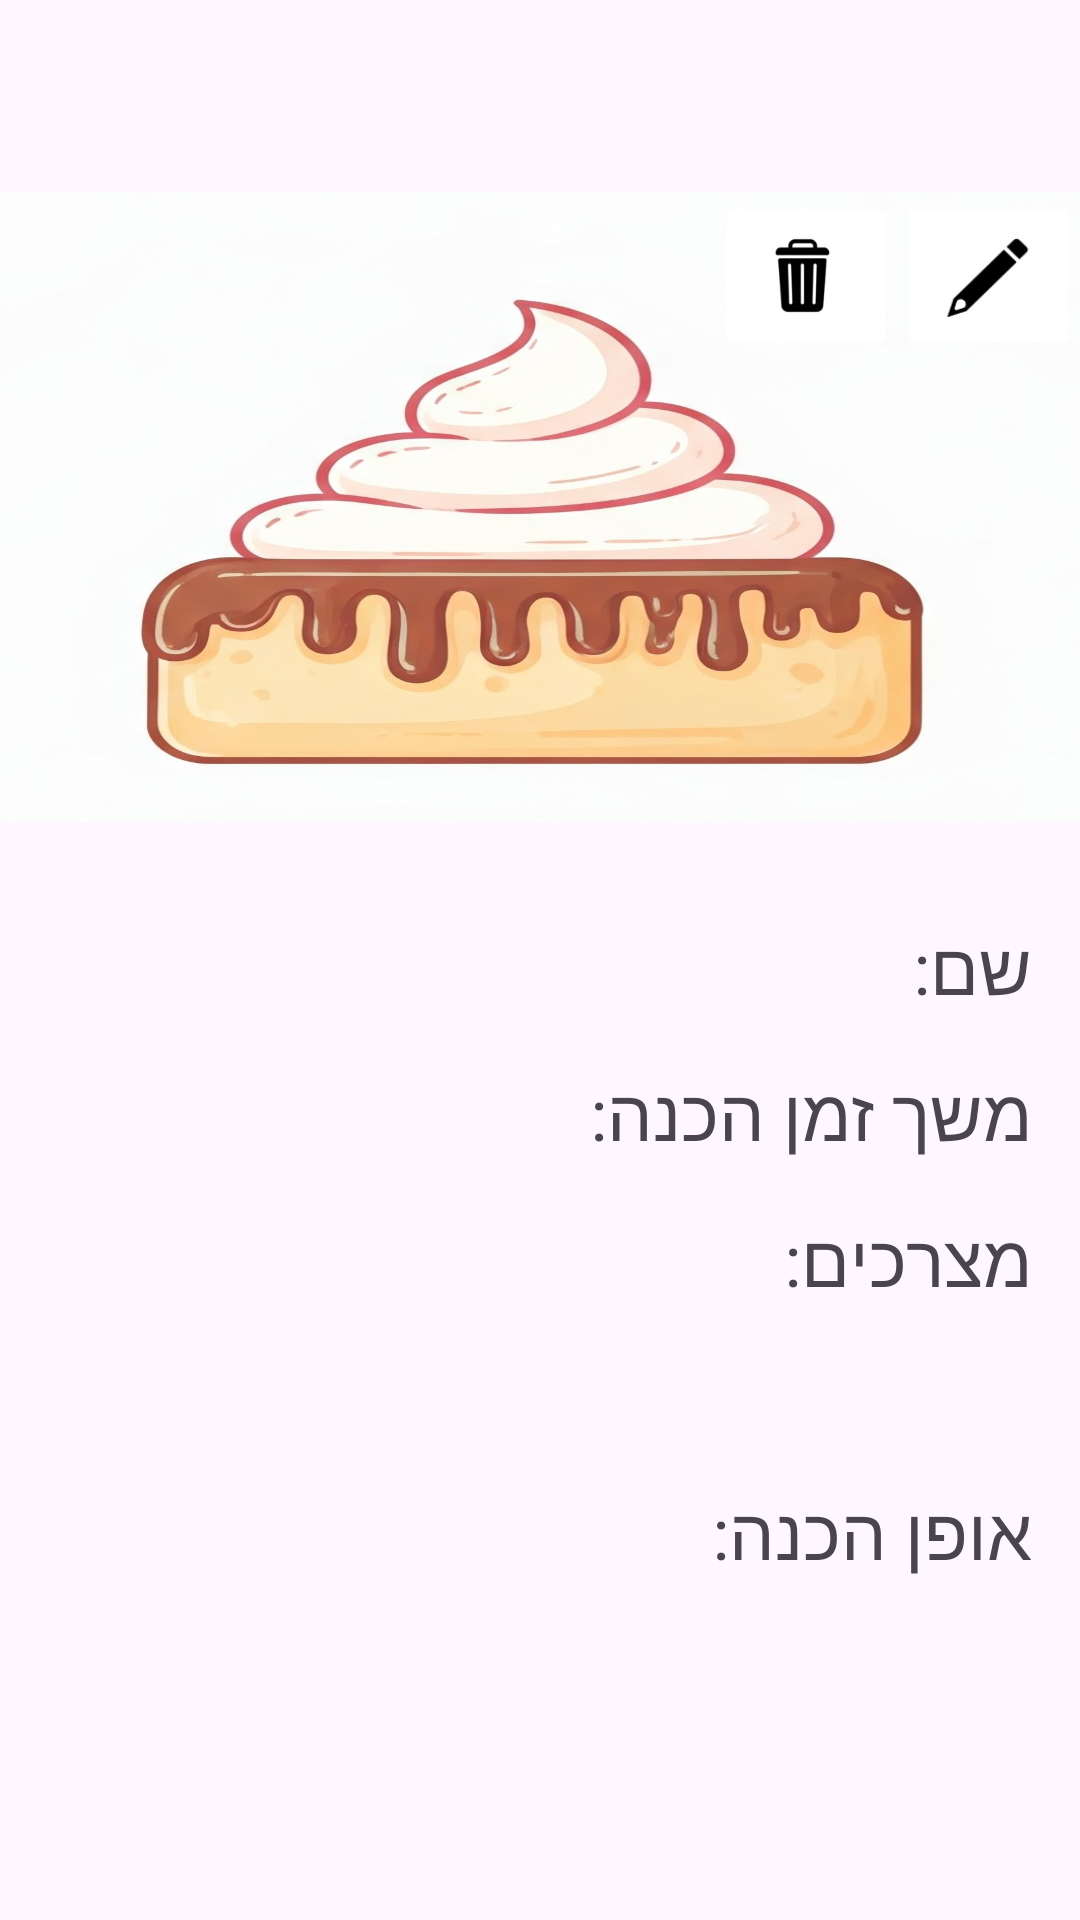

Named icons in this screenshot (1080 x 1920) and their centers, [x,y]:
delete: [802,275]
edit: [988,277]
